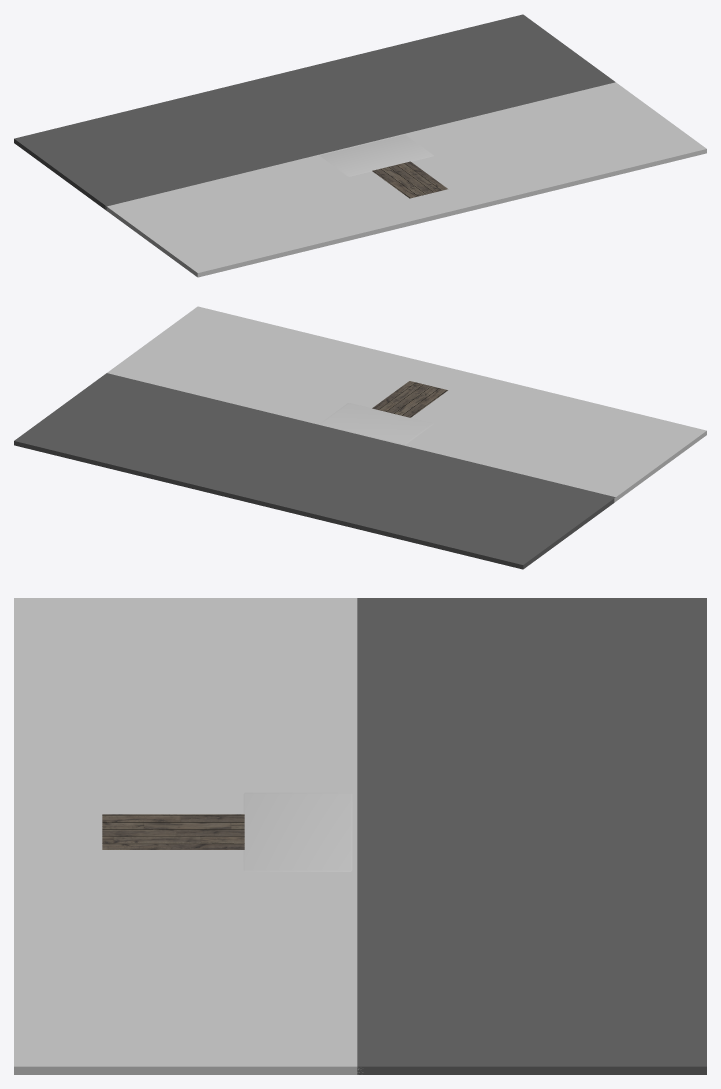
The model's file is Anexo_Torre.fbx.
3 views of the same model, one above another, from view 1: azimuth 30°, elevation 25°; view 2: azimuth 150°, elevation 25°; view 3: azimuth 270°, elevation 25° (orthographic). The views are drawn at different scales.
Visible parts, largest first — view 1: Base.001, Base.002, BasePuente, Puente; view 2: Base.001, Base.002, BasePuente, Puente; view 3: Base.001, Base.002, BasePuente, Puente.
Boxes of the visible parts, x1,y1,x2,y2 form: Base.001: [14, 14, 615, 210]; Base.002: [105, 82, 706, 277]; BasePuente: [320, 135, 433, 176]; Puente: [372, 161, 447, 198]; Base.001: [14, 373, 615, 569]; Base.002: [107, 306, 706, 502]; BasePuente: [320, 403, 433, 444]; Puente: [372, 381, 447, 417]; Base.001: [357, 598, 706, 1074]; Base.002: [14, 598, 363, 1074]; BasePuente: [243, 792, 352, 871]; Puente: [102, 814, 244, 849].
Size of the model in its own units: 148 by 6 by 92.42.
